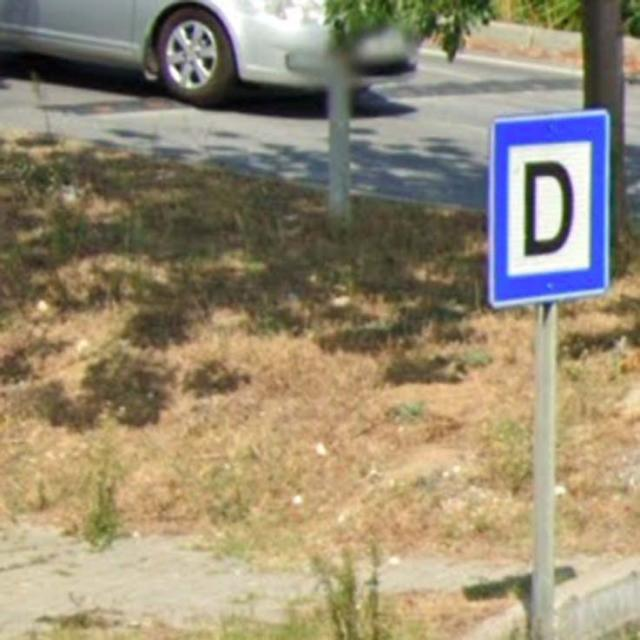durak: (486, 107, 613, 308)
